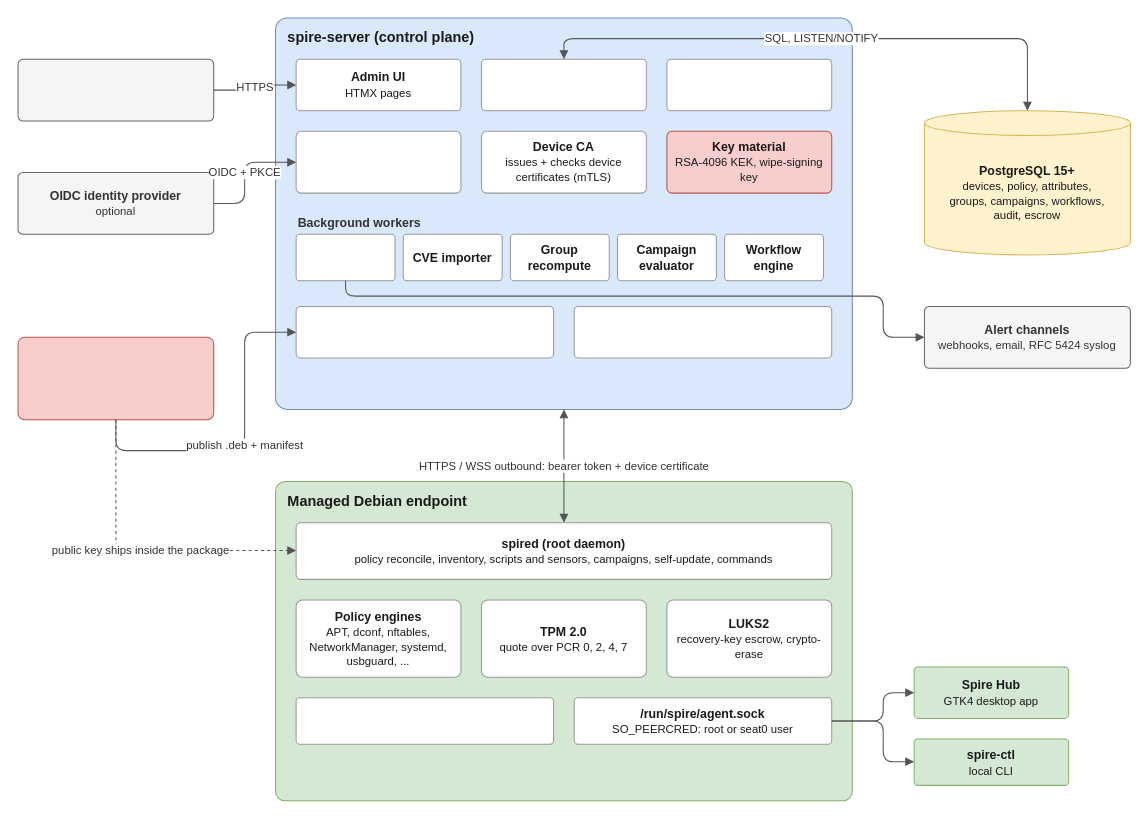
The diagram is 1148 pixels wide and 819 high, and some of its shapes have lost their labels. The centre of each missing label's shape, as x and y in pixels:
/dist .deb packages + signed manifests: the point at 424,331
Administrators browser: the point at 115,89
Alerts: the point at 345,257
Authentication sessions, MFA, PATs, OIDC, RBAC + tag scope: the point at 378,161
Migration runner Postgres advisory lock: the point at 702,331
Release engineering spire-release keygen / sign Ed25519 private key, offline: the point at 115,378
REST API admin + device endpoints: the point at 563,84
Rollback timer runs the previous spired binary: the point at 424,720
WebSocket gateway commands, PTY, push: the point at 749,84
